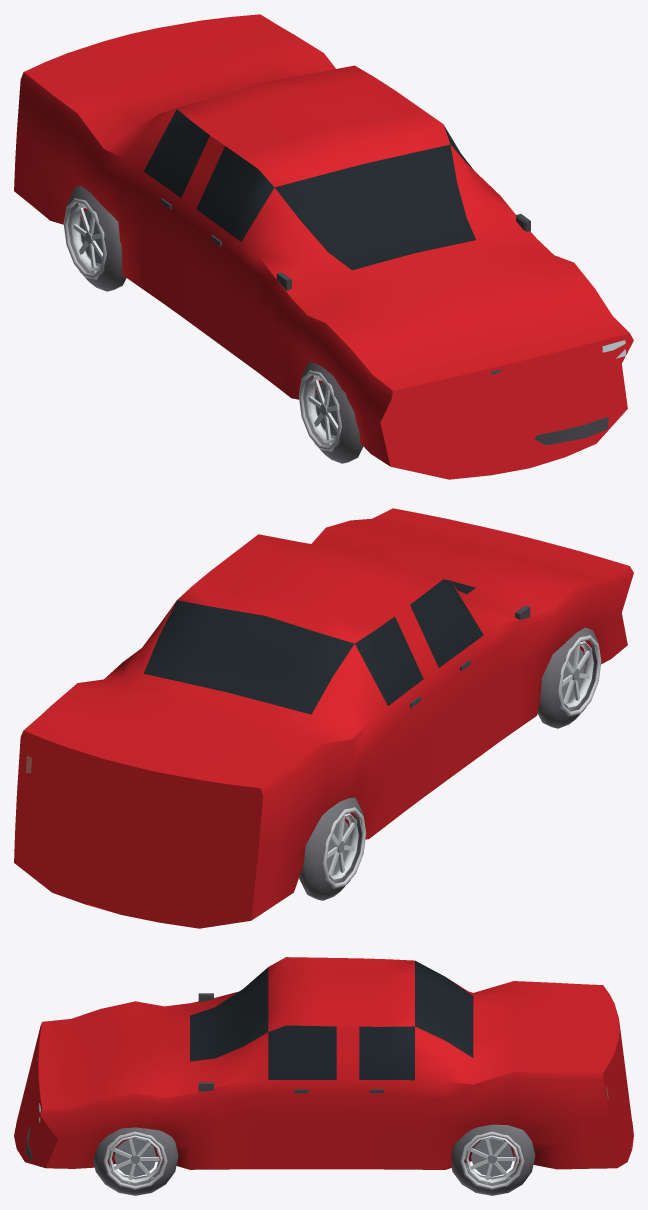
File: Sedan_Mid_A_26.fbx
The picture shows the model from 3 angles, top to bottom: view 1: azimuth 30°, elevation 25°; view 2: azimuth 150°, elevation 25°; view 3: azimuth 270°, elevation 25°; orthographic projection. The views are drawn at different scales.
Parts seen in each view (by area): view 1: LOD0; view 2: LOD0; view 3: LOD0.
Part boxes in pixels (bbox=[...]): LOD0: bbox=[14, 14, 633, 479]; LOD0: bbox=[14, 508, 633, 928]; LOD0: bbox=[14, 957, 633, 1195].
Size of what is drawn, in the model's own units: 182 by 144 by 490.
